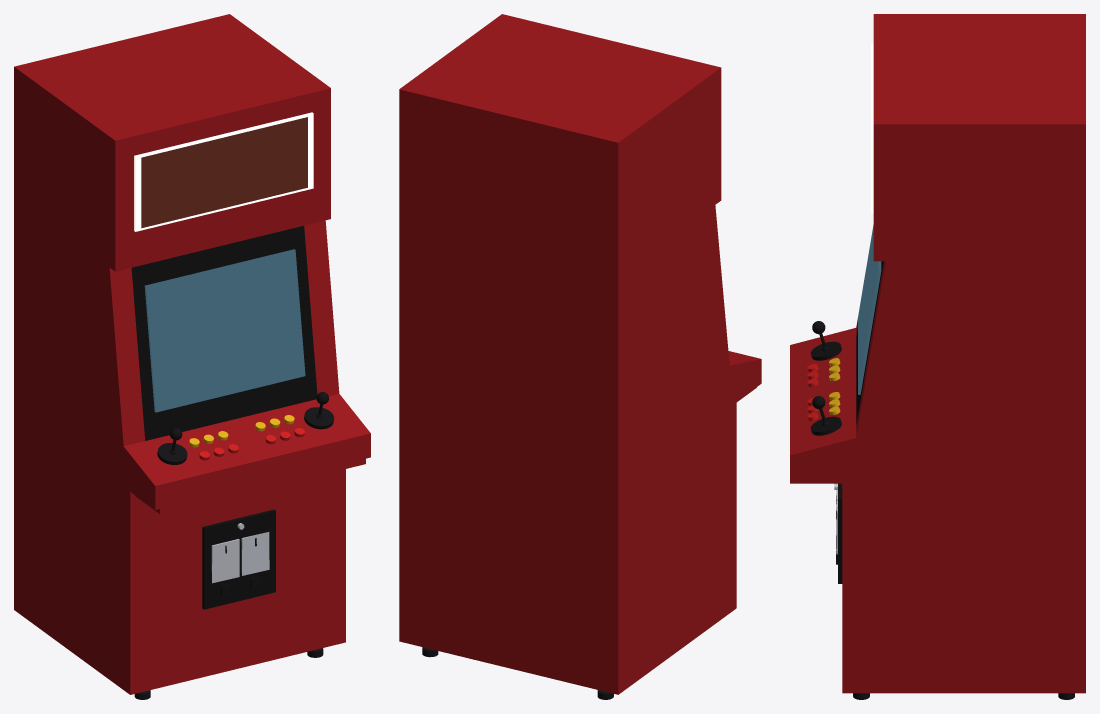
File: arcade.glb
3 views of the same model, side by side, from view 1: azimuth 30°, elevation 25°; view 2: azimuth 150°, elevation 25°; view 3: azimuth 270°, elevation 25° (orthographic). The views are drawn at different scales.
Visible parts, largest first — view 1: cabinet, coin_door; view 2: cabinet; view 3: cabinet, coin_door.
Part boxes in pixels (x1=…): cabinet: x1=14, y1=14, x2=370, y2=699; coin_door: x1=202, y1=509, x2=275, y2=609; cabinet: x1=399, y1=14, x2=761, y2=699; cabinet: x1=790, y1=14, x2=1085, y2=699; coin_door: x1=834, y1=483, x2=842, y2=583.
Size of the model in its own units: 0.75 by 1.85 by 0.85.
